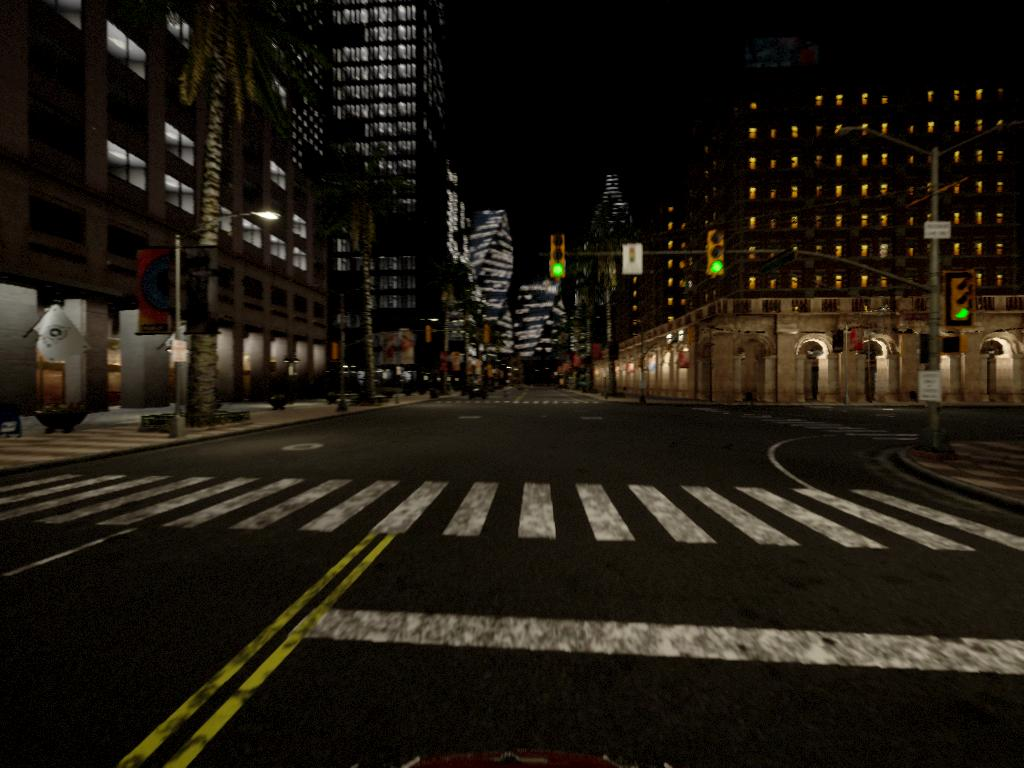traffic_light: (946, 274, 977, 325), (706, 231, 727, 279), (548, 234, 570, 279)
